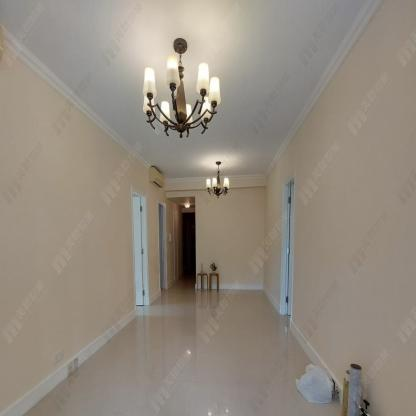AC: (148, 166, 165, 189)
